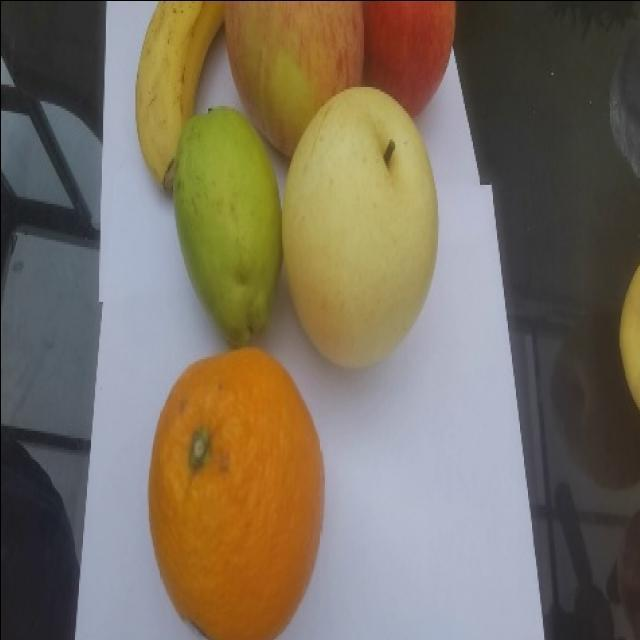Apple: (223, 0, 365, 160), (362, 0, 457, 118)
Banana: (134, 0, 225, 191)
Orange: (147, 345, 325, 639)
